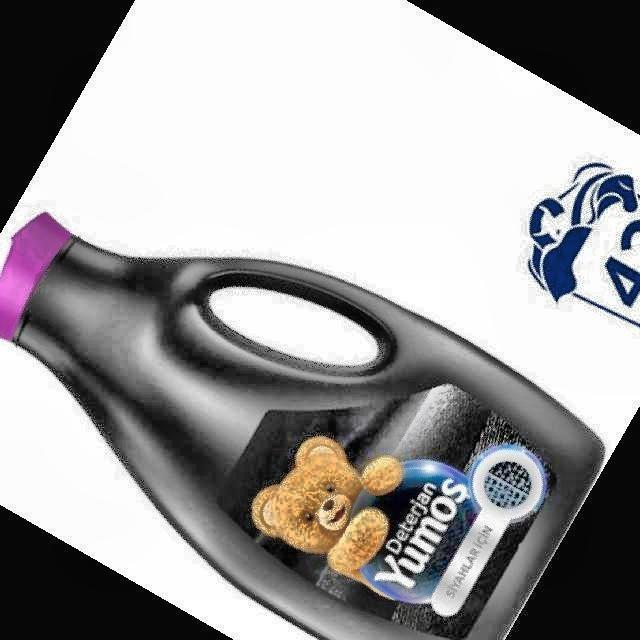plastic: (0, 212, 602, 640)
